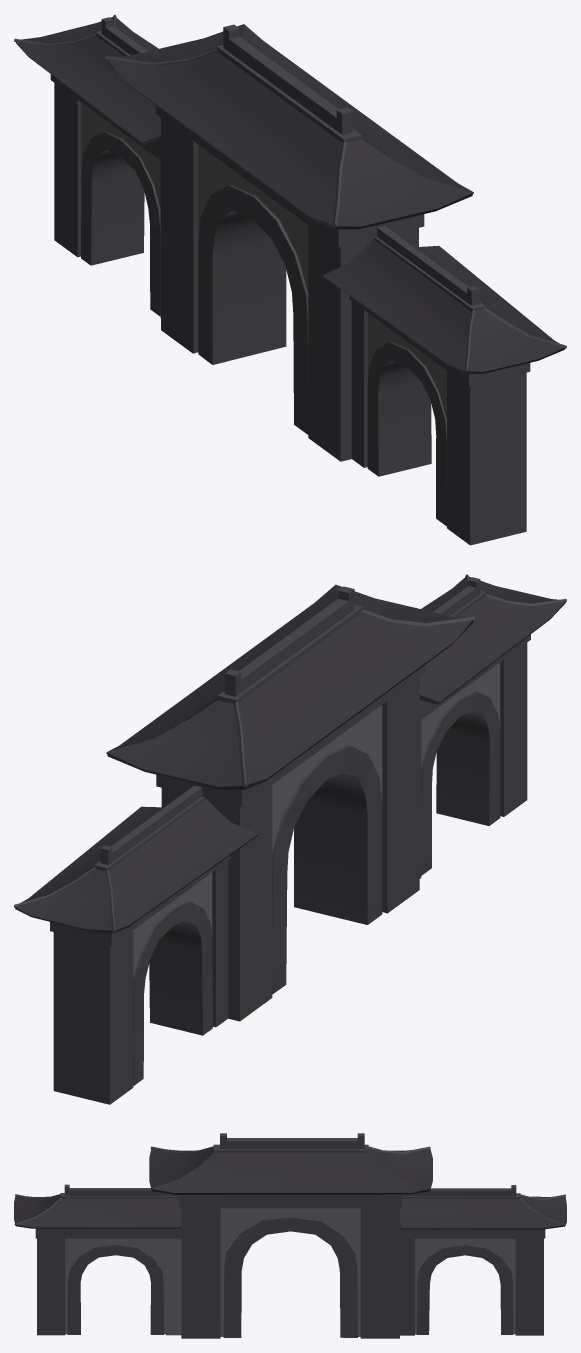
Rendered from castle_gate.fbx.
3 views of the same model, one above another, from view 1: azimuth 30°, elevation 25°; view 2: azimuth 150°, elevation 25°; view 3: azimuth 270°, elevation 25° (orthographic). The views are drawn at different scales.
Visible parts, largest first — view 1: castle_gate; view 2: castle_gate; view 3: castle_gate.
Boxes of the visible parts, <box> form: castle_gate: <box>14,15,566,545</box>; castle_gate: <box>14,574,566,1104</box>; castle_gate: <box>14,1133,566,1338</box>.
Bounding box in the file's own units: 724 × 1516 × 3950.
